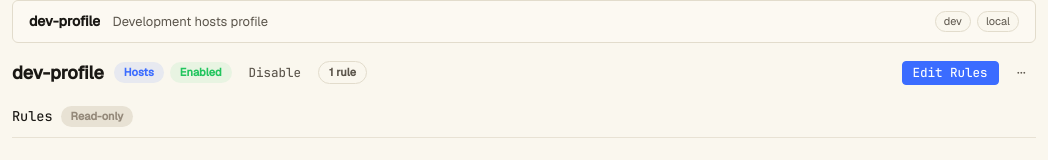
ProfileView › saves rules successfully and exits editing mode
// Enter edit mode
Click the button "Edit Rules" at (950, 72), box x1=902 y1=60 x2=998 y2=84
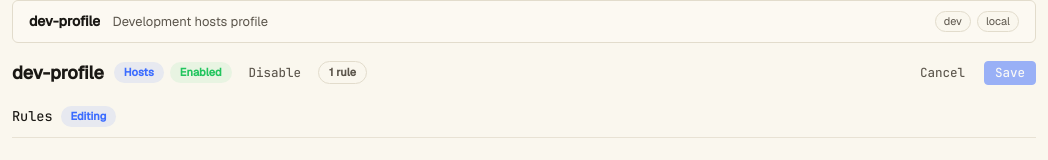
Result: the text "Editing" is shown at x1=61 y1=106 x2=116 y2=126
Result: the button "Cancel" is shown at x1=909 y1=60 x2=976 y2=84
Result: the button "Save" is disabled at x1=984 y1=60 x2=1036 y2=84
